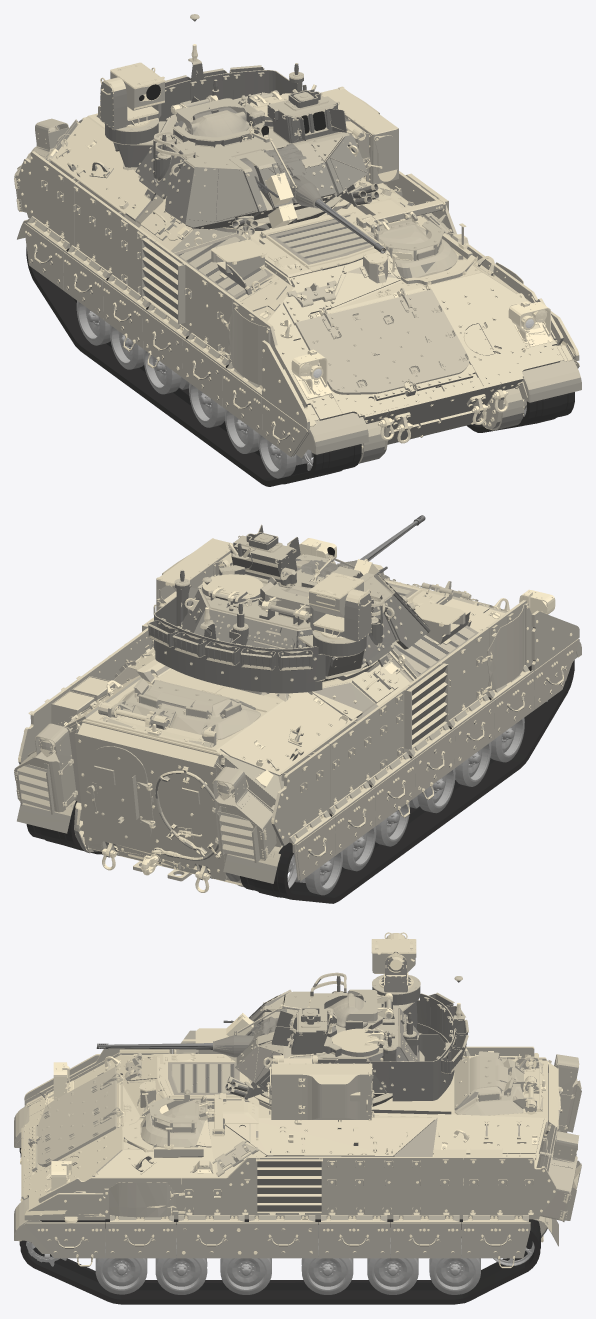
The model's file is vehicle.glb.
3 views of the same model, one above another, from view 1: azimuth 30°, elevation 25°; view 2: azimuth 150°, elevation 25°; view 3: azimuth 270°, elevation 25° (orthographic). The views are drawn at different scales.
Visible parts, largest first — view 1: g0000 @root, g0085 bone_turret, g0018 hatch_06, g0109 track_r, g0040 hatch_01, g0000_grille_01 grille_01, g0093 roll_05, g0100 hatch_02, g0038 ex_decor_r_05, g0101 ex_armor_03, g0000_grille_00 grille_00, g0039 ex_decor_l_04 (+22 smaller); view 2: g0000 @root, g0085 bone_turret, g0109 track_r, g0023 hatch_04, g0002 hatch_05, g0019 ex_decor_r_04, g0020 ex_decor_l_09, g0093 roll_05, g0101 ex_armor_03, g0035 ex_armor_r_05, g0034 ex_armor_r_04, g0036 ex_armor_r_06 (+19 smaller); view 3: g0000 @root, g0085 bone_turret, g0110 track_l, g0093 roll_05, g0018 hatch_06, g0002 hatch_05, g0040 hatch_01, g0026 ex_armor_l_03, g0027 ex_armor_l_04, g0029 ex_armor_l_06, g0028 ex_armor_l_05, g0025 ex_armor_l_02 (+21 smaller).
Part boxes in pixels (x1,y1,x2,y2): g0000 @root: (17,106,579,463); g0085 bone_turret: (105,14,379,235); g0018 hatch_06: (295,288,469,394); g0109 track_r: (26,246,361,486); g0040 hatch_01: (366,213,457,278); g0000_grille_01 grille_01: (269,218,377,264); g0093 roll_05: (320,86,398,184); g0100 hatch_02: (171,95,249,137); g0038 ex_decor_r_05: (296,413,368,457); g0101 ex_armor_03: (100,67,161,130); g0000_grille_00 grille_00: (174,233,272,298); g0039 ex_decor_l_04: (521,360,581,402); g0000 @root: (18,564,579,886); g0085 bone_turret: (146,524,430,693); g0109 track_r: (240,660,574,903); g0023 hatch_04: (86,746,154,845); g0002 hatch_05: (111,678,260,739); g0019 ex_decor_r_04: (212,762,282,863); g0020 ex_decor_l_09: (14,723,80,814); g0093 roll_05: (153,538,233,614); g0101 ex_armor_03: (310,579,371,641); g0035 ex_armor_r_05: (373,757,415,826); g0034 ex_armor_r_04: (413,728,455,799); g0036 ex_armor_r_06: (333,787,375,855); g0000 @root: (17,1028,562,1241); g0085 bone_turret: (225,972,468,1106); g0110 track_l: (19,1219,540,1304); g0093 roll_05: (271,1055,374,1120); g0018 hatch_06: (37,1067,120,1167); g0002 hatch_05: (454,1051,536,1115); g0040 hatch_01: (140,1089,212,1147); g0026 ex_armor_l_03: (176,1222,247,1258); g0027 ex_armor_l_04: (247,1222,318,1258); g0029 ex_armor_l_06: (390,1222,461,1258); g0028 ex_armor_l_05: (319,1222,389,1258); g0025 ex_armor_l_02: (105,1222,175,1258).
Size of the model in its own units: 3.43 by 3.44 by 6.58.
40 materials, 2 textured.
